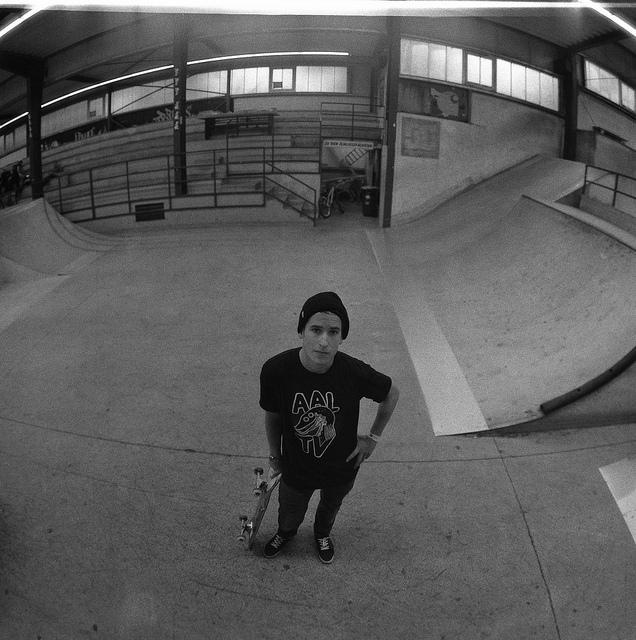bicycle: (319, 182, 346, 216)
